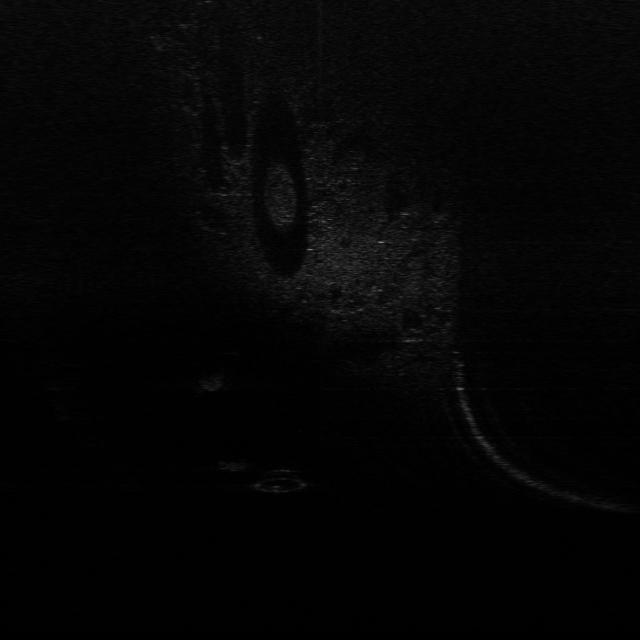cube: (213, 458, 253, 473)
square cage: (197, 370, 228, 392)
tyre: (250, 467, 310, 493)
